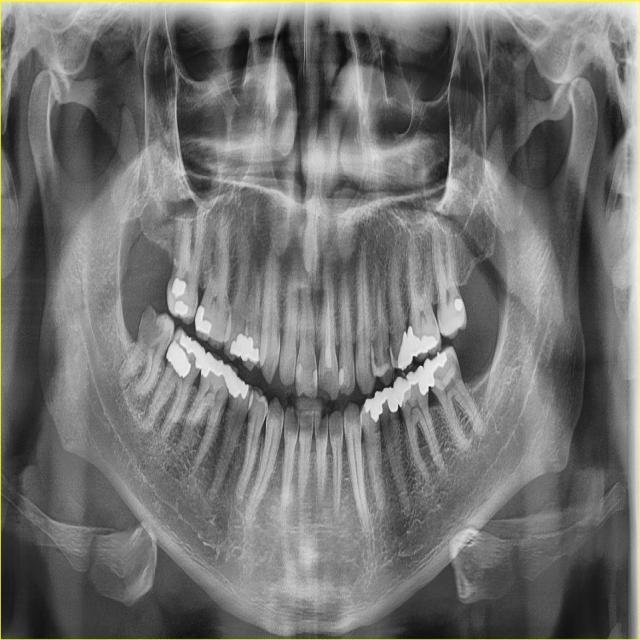Caries: (138, 304, 163, 345), (368, 355, 375, 379), (386, 344, 392, 366)
Filling: (201, 351, 237, 394), (394, 366, 428, 406), (179, 328, 205, 369), (166, 340, 191, 379), (407, 327, 438, 357), (423, 350, 448, 387), (433, 356, 455, 390), (375, 387, 398, 414), (397, 330, 412, 370), (229, 374, 249, 400), (241, 336, 259, 363), (195, 305, 211, 334), (364, 397, 379, 423), (171, 278, 186, 299), (230, 334, 243, 356), (174, 300, 187, 316), (454, 298, 464, 313), (296, 363, 303, 382), (339, 367, 344, 390), (313, 369, 318, 388)
Root Canal Treatment: (325, 288, 332, 368)
